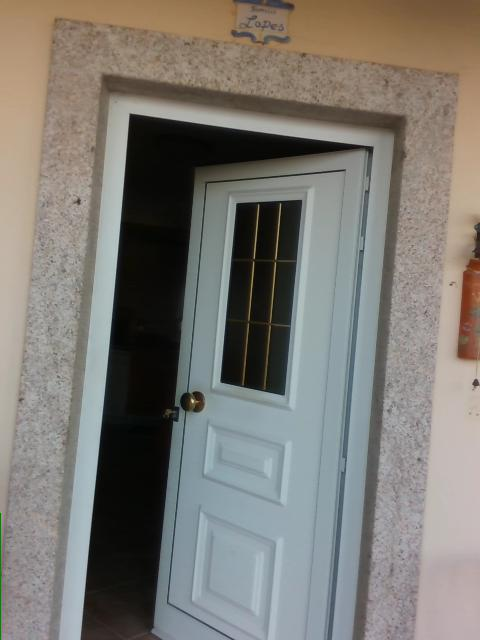semi_door: (78, 108, 376, 639)
